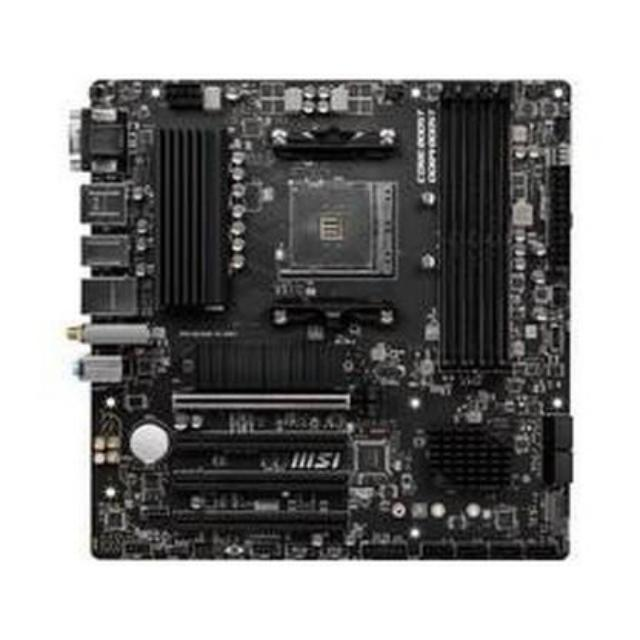Mainboard: (61, 54, 584, 592)
